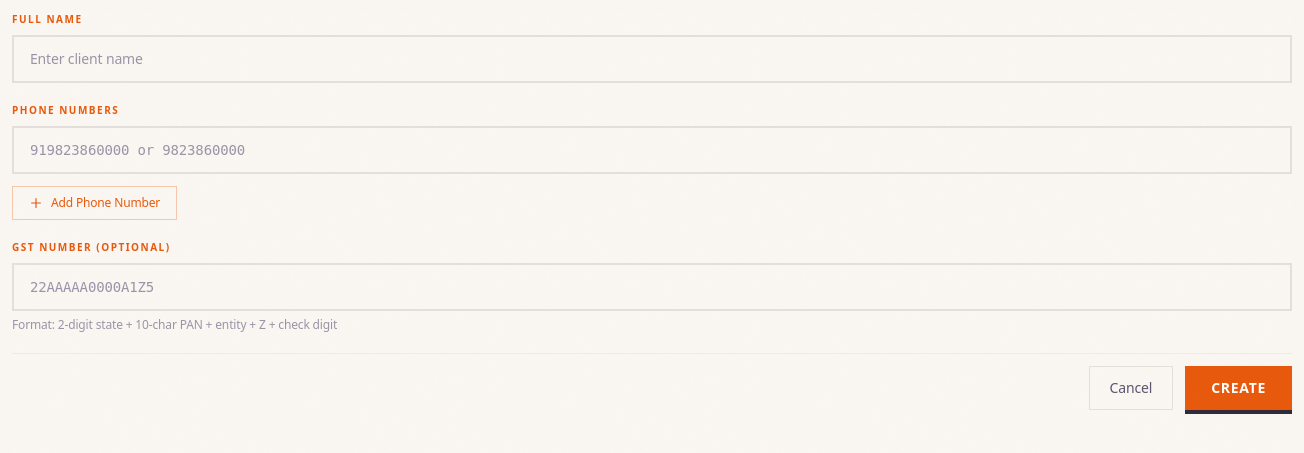
ClientForm › Unit Tests - Form Validation › should reject phone number without 91 country code
Type "Test User" into the field labelled "Full Name".
click(652, 59); type("Test User")  # box [12,35,1292,83]
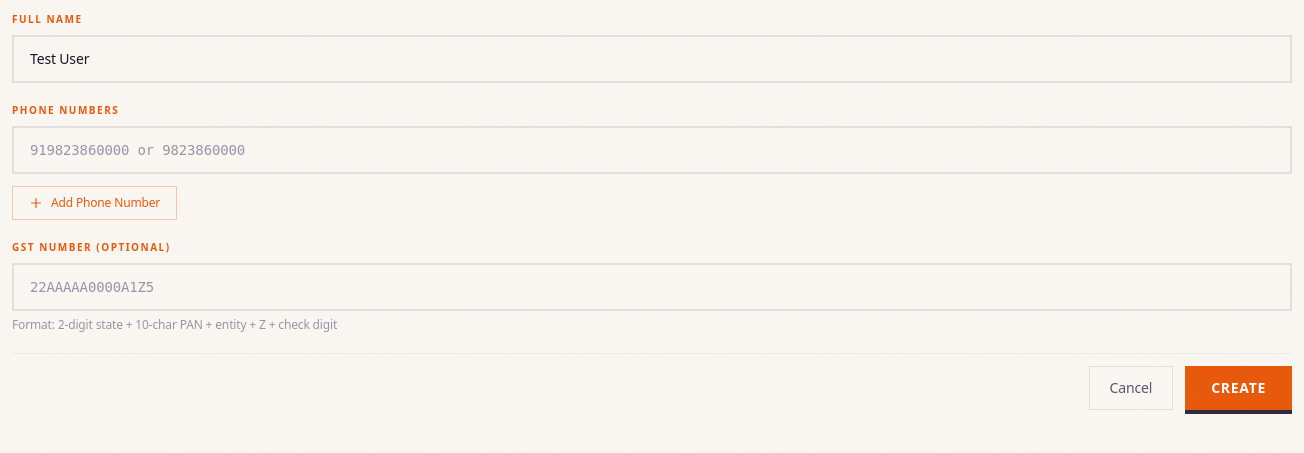
Type "819823860000" into the field with placeholder "919823860000 or 9823860000".
click(652, 150); type("819823860000")  # box [12,126,1292,174]
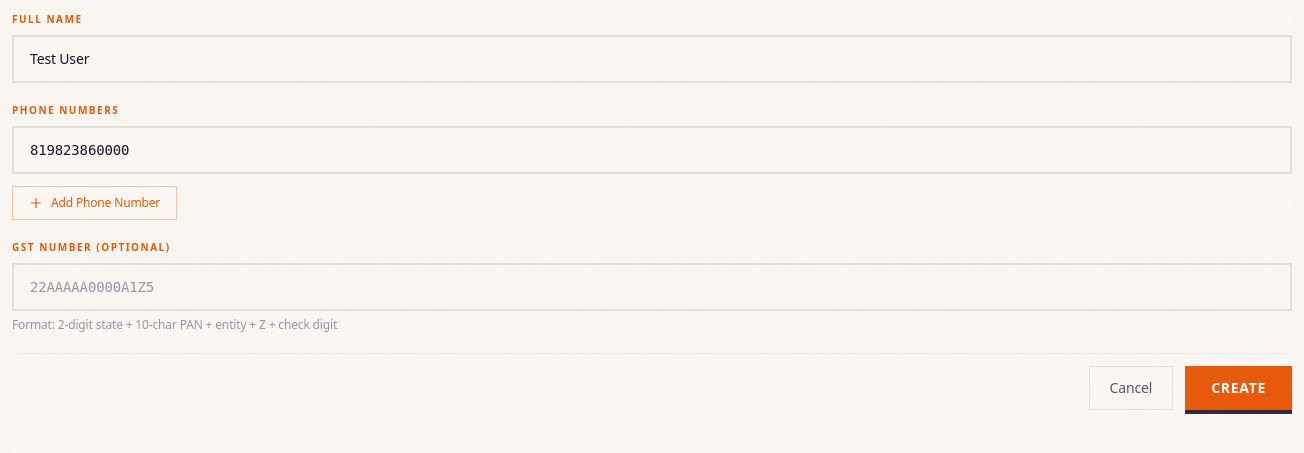
Click the button "Create".
click(1239, 388)  # box [1185,366,1292,410]
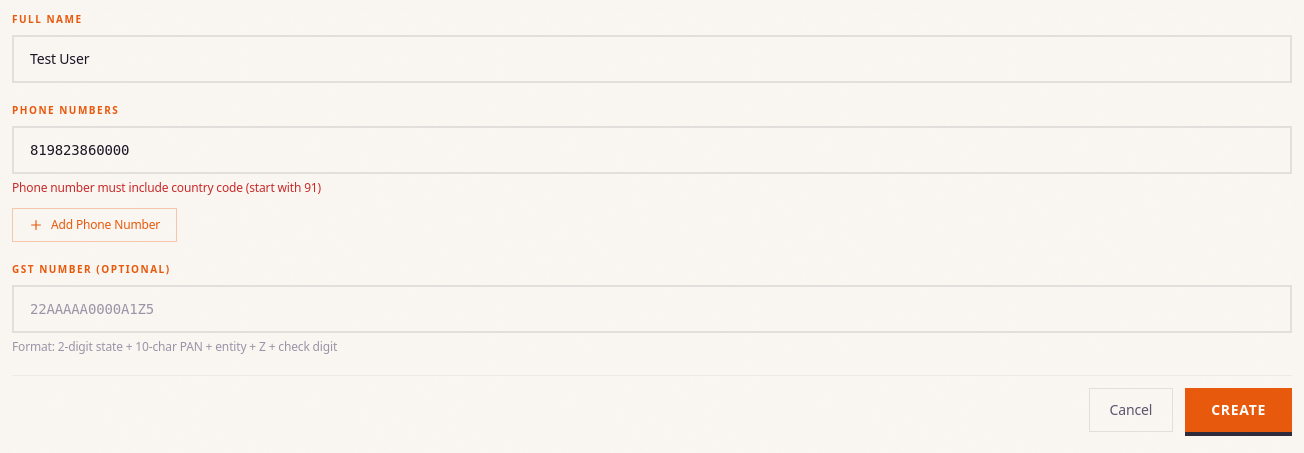
Expected: the text "Phone number must include country code (start with 91)" is shown, [12,179,321,196]
